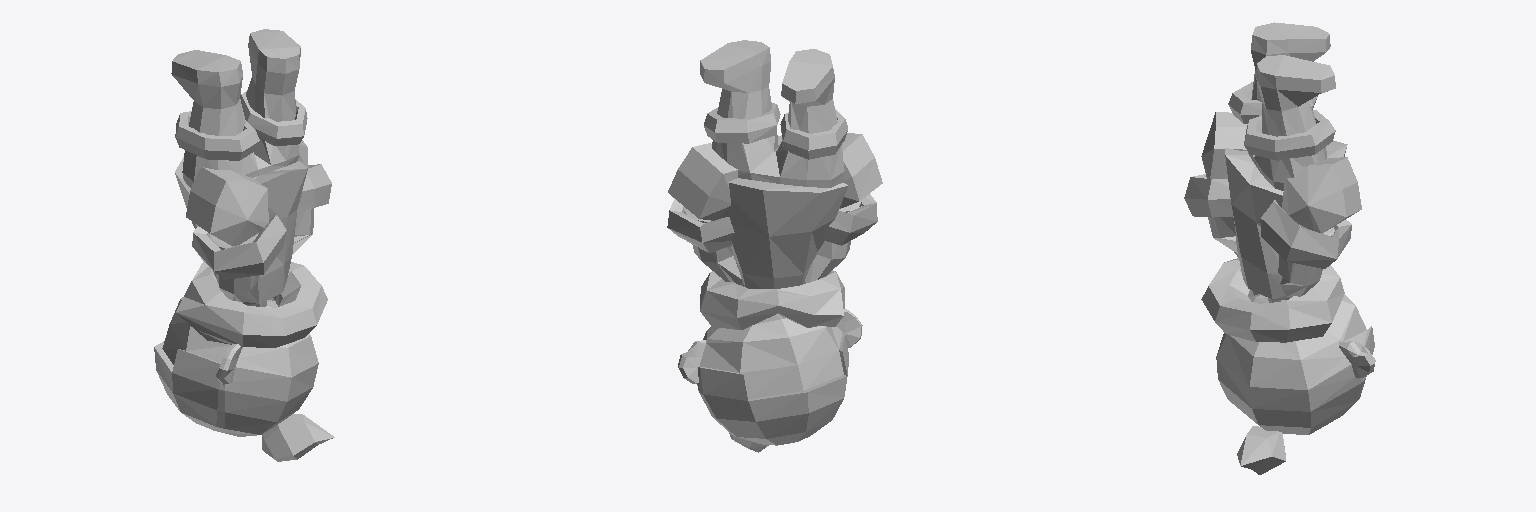
The model's file is eikastanding_000305.obj.
The picture shows the model from 3 angles: view 1: azimuth 30°, elevation 25°; view 2: azimuth 150°, elevation 25°; view 3: azimuth 270°, elevation 25°; orthographic projection.
Visible parts, largest first — view 1: Cylinder; view 2: Cylinder; view 3: Cylinder.
Boxes of the visible parts, x1,y1,x2,y2 form: Cylinder: [154, 29, 334, 461]; Cylinder: [667, 40, 882, 452]; Cylinder: [1184, 22, 1375, 474].
Bounding box in the file's own units: 23.6 × 56.59 × 23.95.